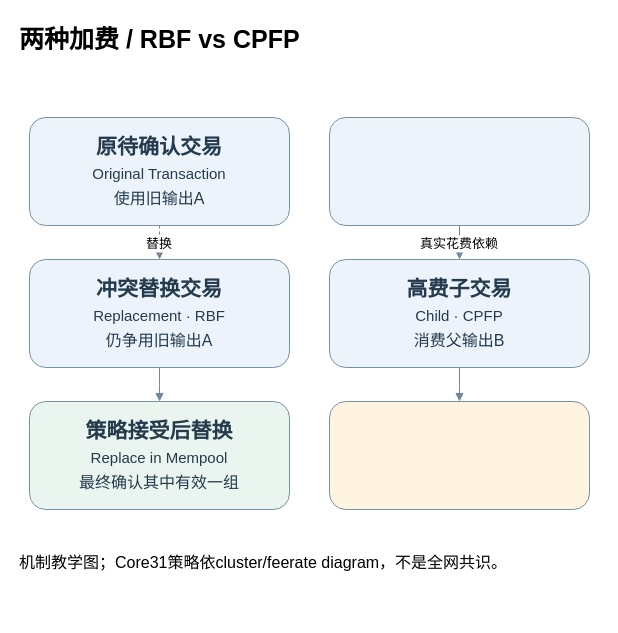
This 618x633 diagram has some shape labels left out. Each missing label, with the box of its shape:
父子组合激励 Package Incentive 费用合计 / 大小合计: (328, 400, 590, 510)
父待确认交易 Parent Transaction 创建新输出B: (328, 116, 590, 226)
